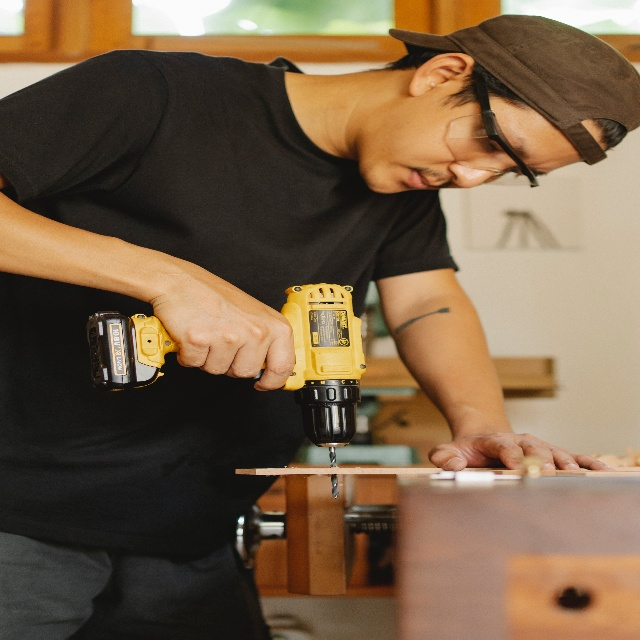Gafas: (446, 62, 538, 189)
Sin_guantes: (151, 255, 296, 394), (427, 426, 613, 472)
